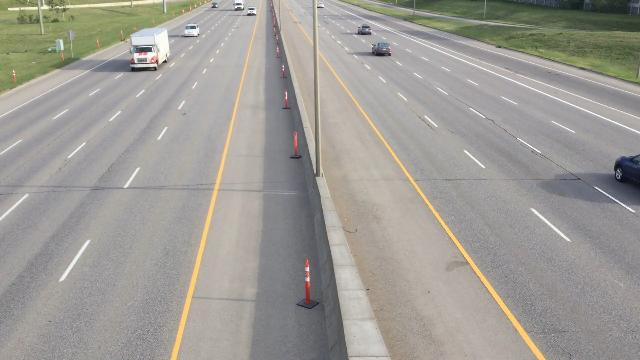car: (613, 151, 640, 190), (371, 42, 393, 57), (183, 21, 201, 39), (356, 21, 375, 37), (247, 7, 257, 15), (317, 2, 324, 8), (212, 2, 218, 8)
truck: (129, 28, 172, 70), (232, 0, 245, 11)
